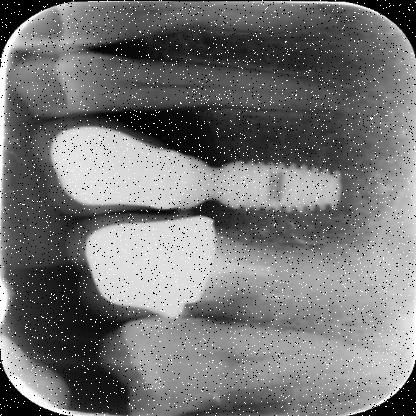Bicon: (210, 159, 342, 213)
